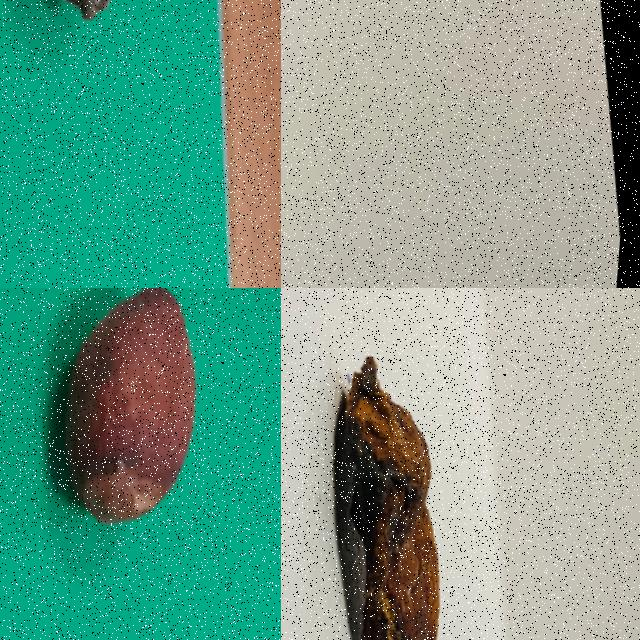Fine_cocoabeans: (1, 288, 267, 637), (0, 0, 154, 82)
Flat_cocoabeans: (281, 288, 534, 639)
